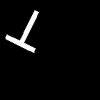half_double_crochet: (6, 11, 38, 51)
